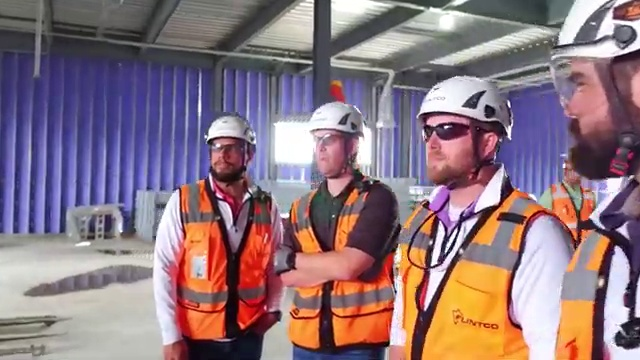helmet: (407, 70, 541, 134), (546, 1, 637, 61), (306, 97, 378, 140), (198, 111, 265, 145)
jacket: (403, 185, 553, 360), (168, 176, 287, 347), (285, 172, 390, 353), (553, 227, 640, 360), (544, 181, 606, 240)
